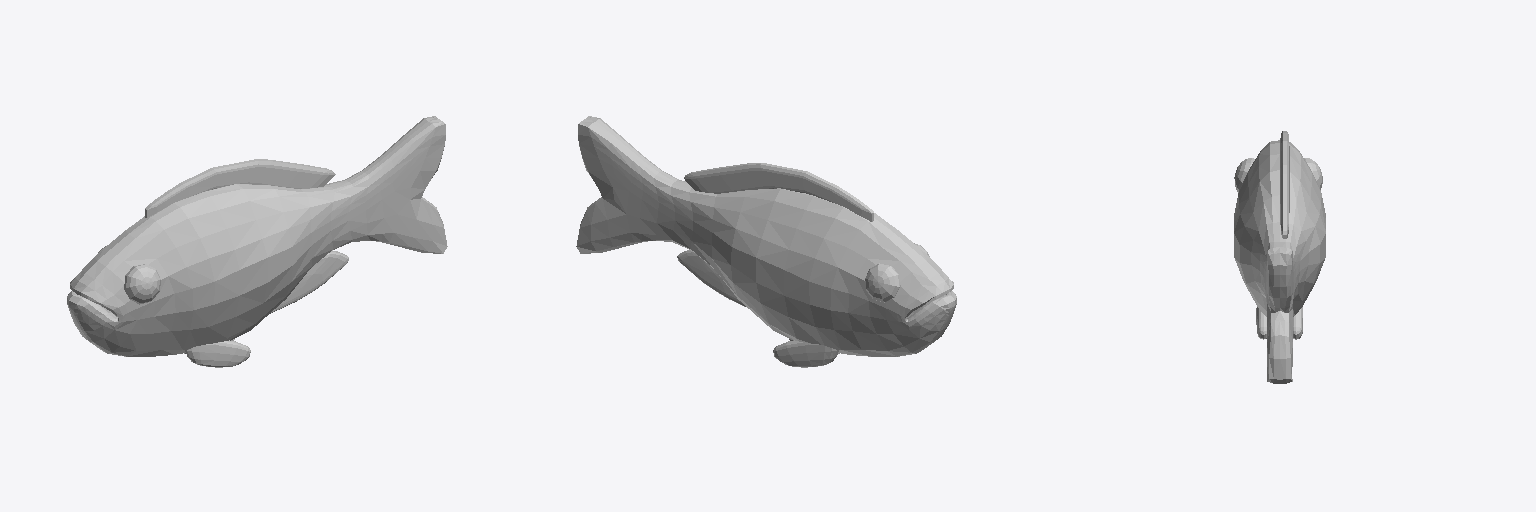
Rendered from SM_BasicFishB.obj.
3 views of the same model, side by side, from view 1: azimuth 30°, elevation 25°; view 2: azimuth 150°, elevation 25°; view 3: azimuth 270°, elevation 25° (orthographic).
Parts seen in each view (by area): view 1: pPlane16; view 2: pPlane16; view 3: pPlane16.
Boxes of the visible parts, x1,y1,x2,y2 form: pPlane16: [67, 116, 447, 367]; pPlane16: [576, 116, 956, 367]; pPlane16: [1234, 131, 1325, 383].
Size of the model in its own units: 6.41 by 3.13 by 1.38.